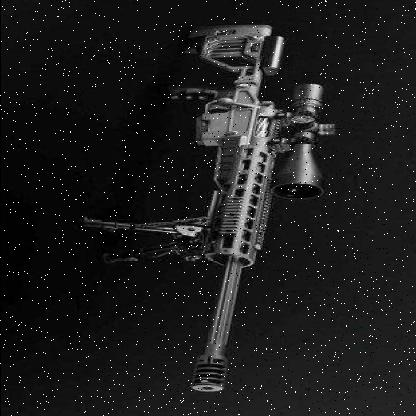rifle: (64, 20, 346, 402)
